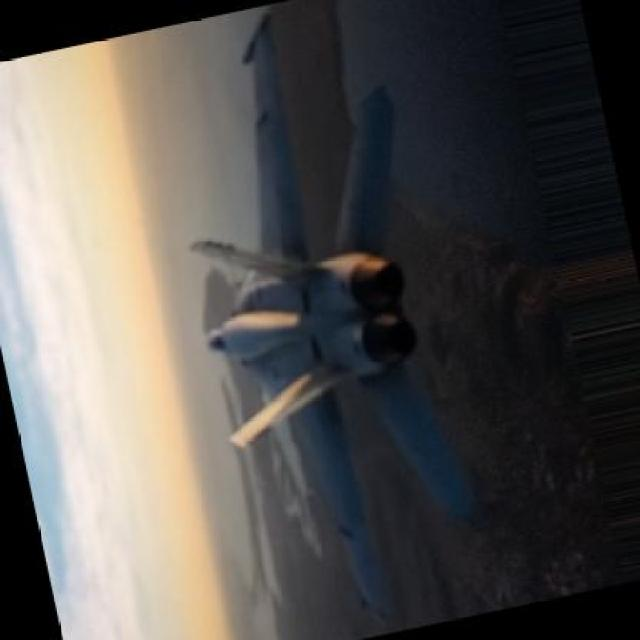iha: (184, 13, 482, 633)
